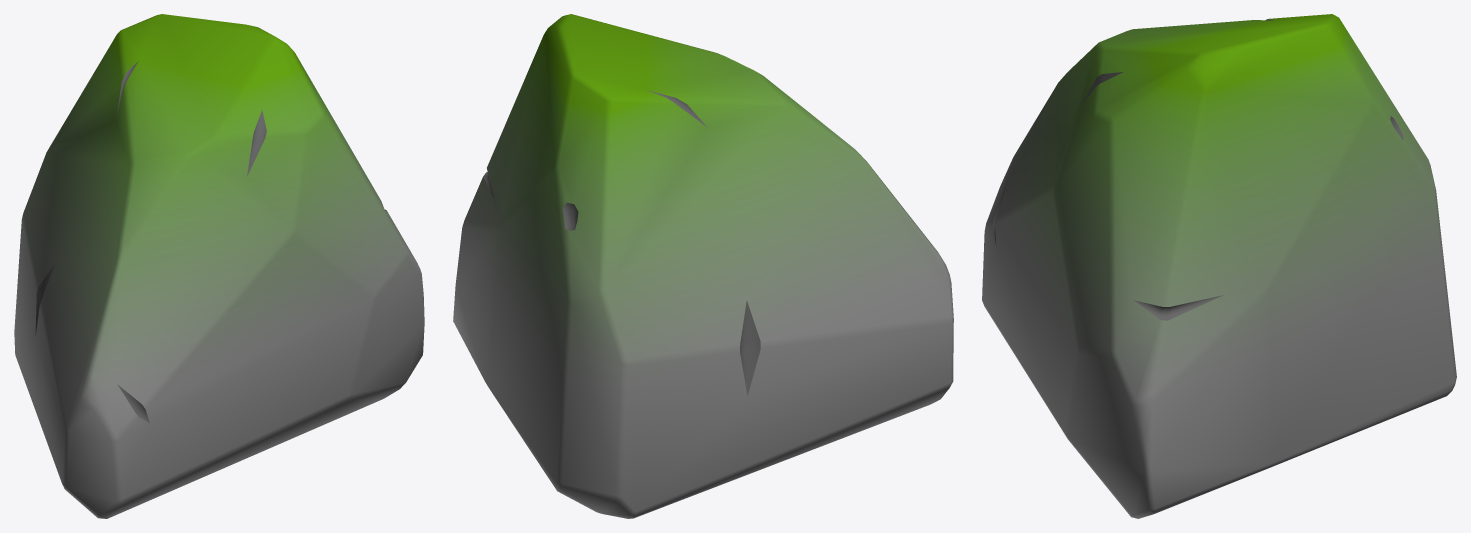
File: Rock05_1.fbx
3 renders of one model, left to right at view 1: azimuth 30°, elevation 25°; view 2: azimuth 150°, elevation 25°; view 3: azimuth 270°, elevation 25°, orthographic. The views are drawn at different scales.
Parts seen in each view (by area): view 1: LOD0; view 2: LOD0; view 3: LOD0.
Boxes of the visible parts, bbox=[...] form: LOD0: bbox=[14, 14, 424, 518]; LOD0: bbox=[453, 14, 953, 518]; LOD0: bbox=[982, 14, 1456, 518].
Size of what is drawn, in the model's own units: 465 by 402 by 395.
